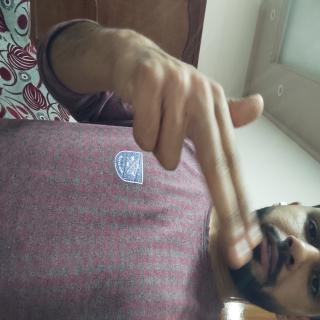GHAYN: (22, 70, 209, 285)
